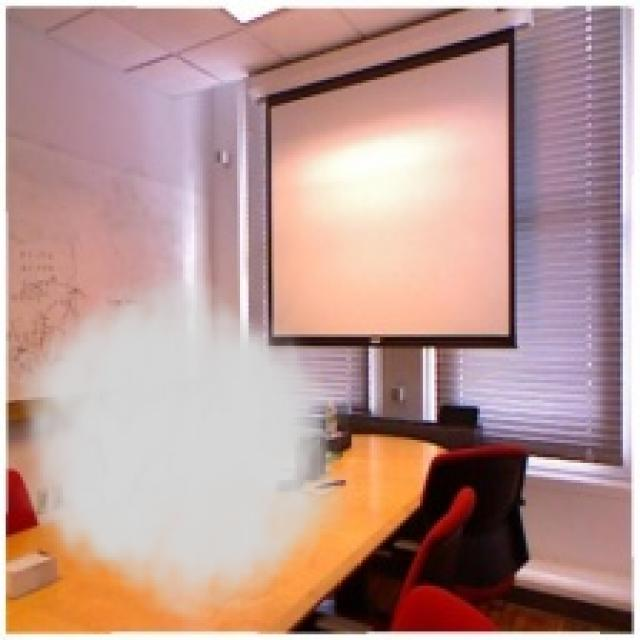smoke: (3, 260, 348, 634)
